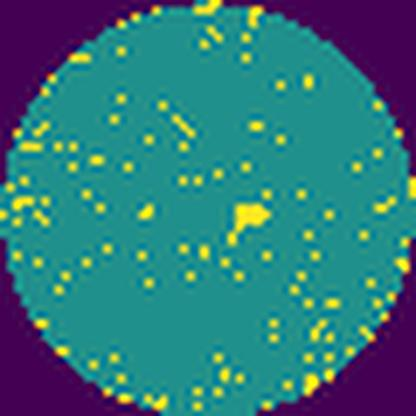Edge-Loc: (230, 200, 272, 246)
